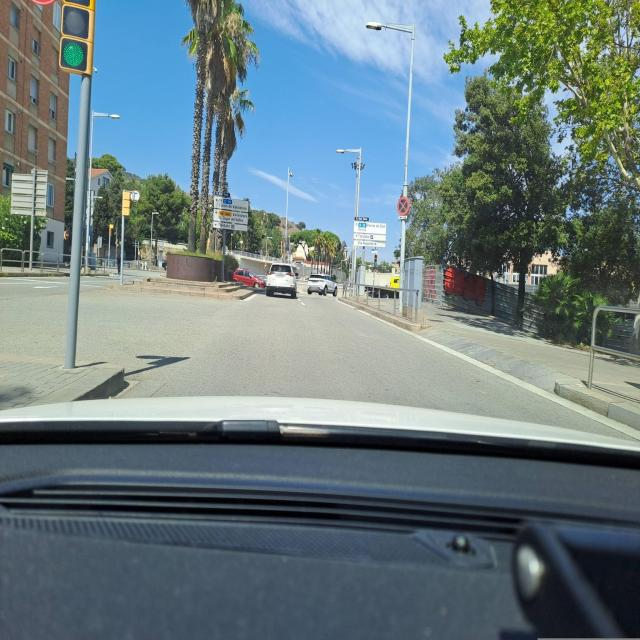car: (265, 262, 298, 298), (307, 274, 338, 296), (233, 268, 263, 288)
